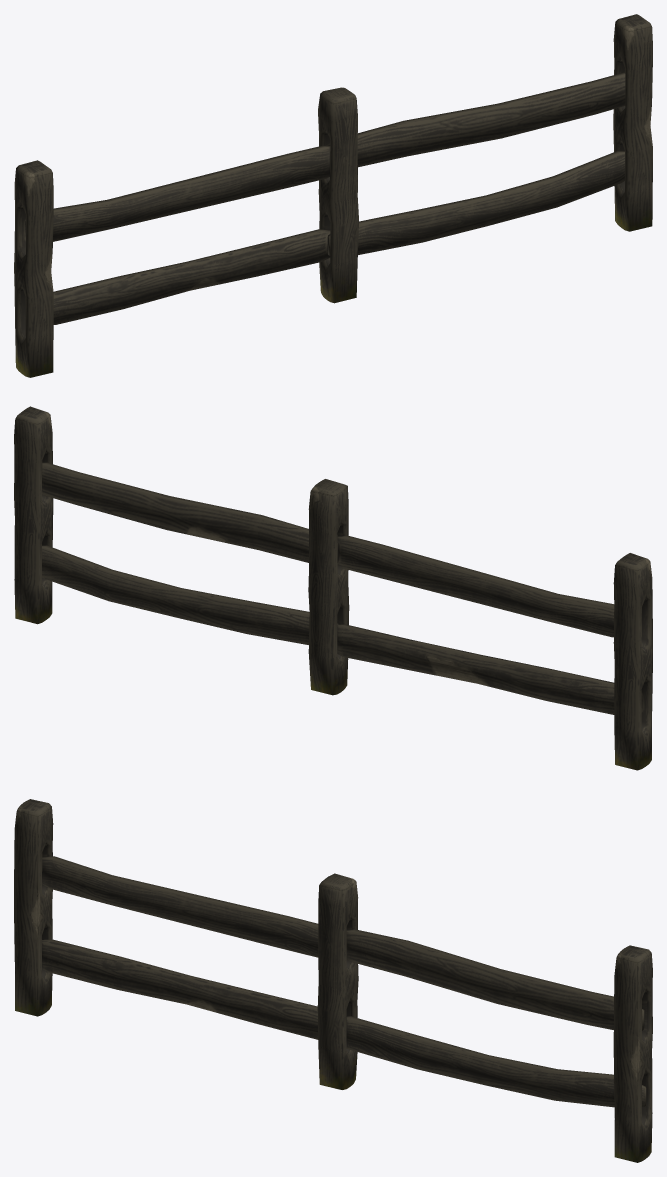
File: wood fence.fbx
3 renders of one model, top to bottom at view 1: azimuth 30°, elevation 25°; view 2: azimuth 150°, elevation 25°; view 3: azimuth 330°, elevation 25°, orthographic.
Visible parts, largest first — view 1: polySurface463, polySurface460, polySurface459, polySurface462, polySurface458, polySurface461, polySurface464; view 2: polySurface463, polySurface460, polySurface459, polySurface462, polySurface458, polySurface461, polySurface464; view 3: polySurface463, polySurface460, polySurface459, polySurface462, polySurface464, polySurface461, polySurface458.
Boxes of the visible parts, bbox=[...] form: polySurface463: bbox=[330, 72, 625, 167]; polySurface460: bbox=[25, 145, 330, 241]; polySurface459: bbox=[53, 229, 330, 324]; polySurface462: bbox=[328, 151, 624, 255]; polySurface458: bbox=[14, 160, 53, 377]; polySurface461: bbox=[318, 87, 358, 303]; polySurface464: bbox=[613, 14, 652, 231]; polySurface463: bbox=[42, 462, 338, 562]; polySurface460: bbox=[337, 535, 614, 637]; polySurface459: bbox=[337, 624, 614, 714]; polySurface462: bbox=[42, 545, 338, 644]; polySurface458: bbox=[613, 553, 652, 770]; polySurface461: bbox=[308, 479, 349, 695]; polySurface464: bbox=[14, 406, 53, 624]; polySurface463: bbox=[346, 929, 644, 1030]; polySurface460: bbox=[42, 856, 318, 957]; polySurface459: bbox=[42, 939, 318, 1039]; polySurface462: bbox=[346, 1016, 646, 1107]; polySurface464: bbox=[613, 945, 652, 1162]; polySurface461: bbox=[317, 873, 358, 1089]; polySurface458: bbox=[14, 799, 53, 1016].
Size of the model in its own units: 440 by 137 by 20.3.
